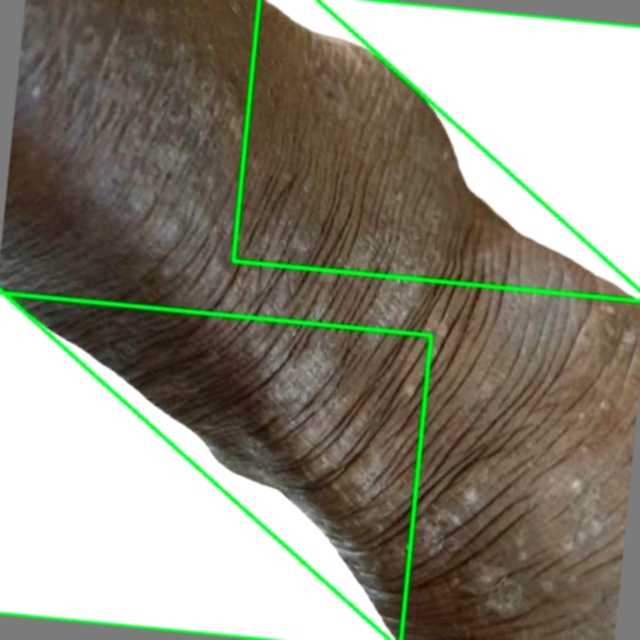Contact Dermatitis: (6, 0, 634, 639), (0, 292, 431, 639), (233, 0, 639, 301)
